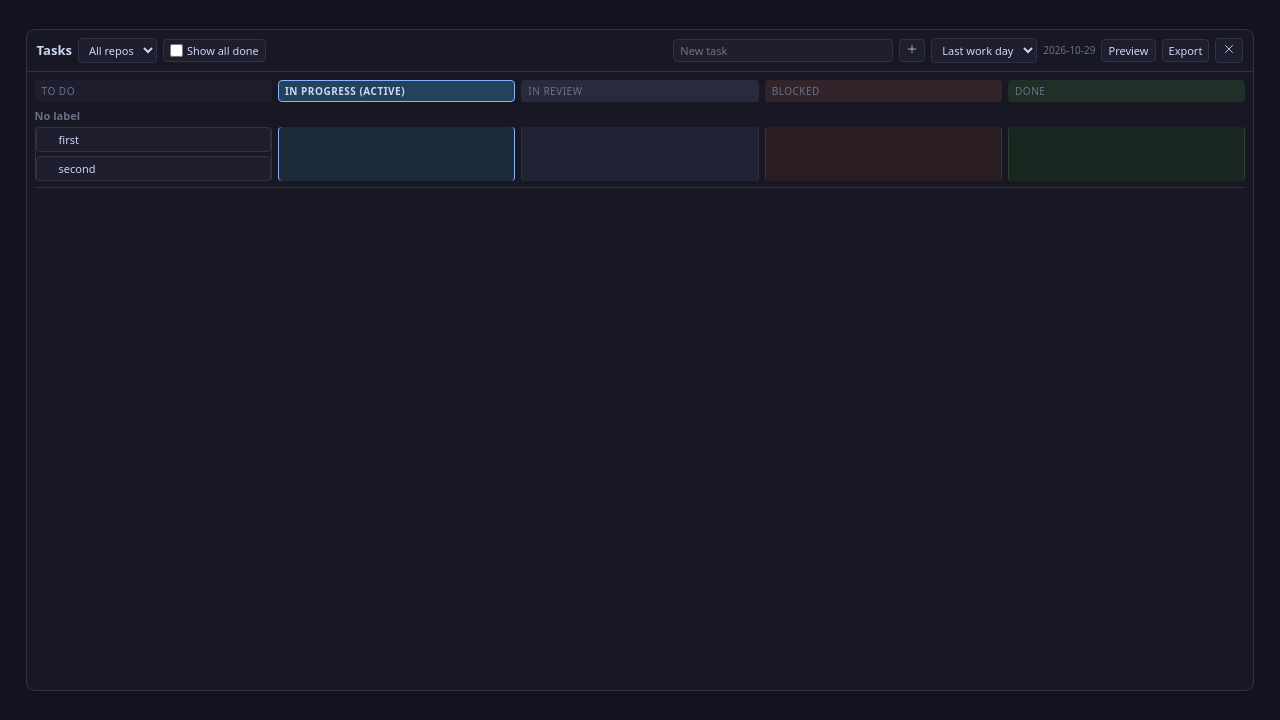
Test case: renaming a task › shows the newly selected task's title when switching cards
The width and height of the screenshot is (1280, 720).
Expected: the text "first" is shown, [59,132,79,147]
Click the button "first" at [153, 139], box [36,127,271,152]
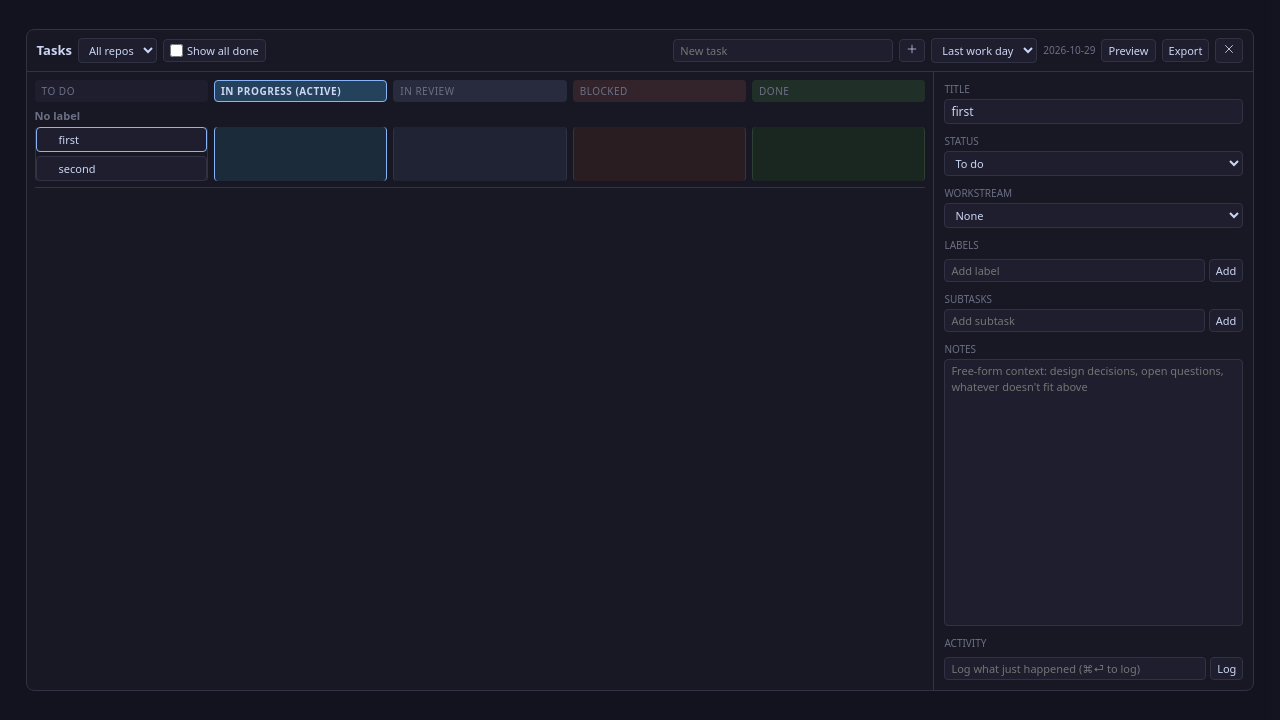
Expected: the field with test id "detail-title" holds "first", [944,99,1243,124]
Click the button "second" at [121, 168], box [36,156,207,181]
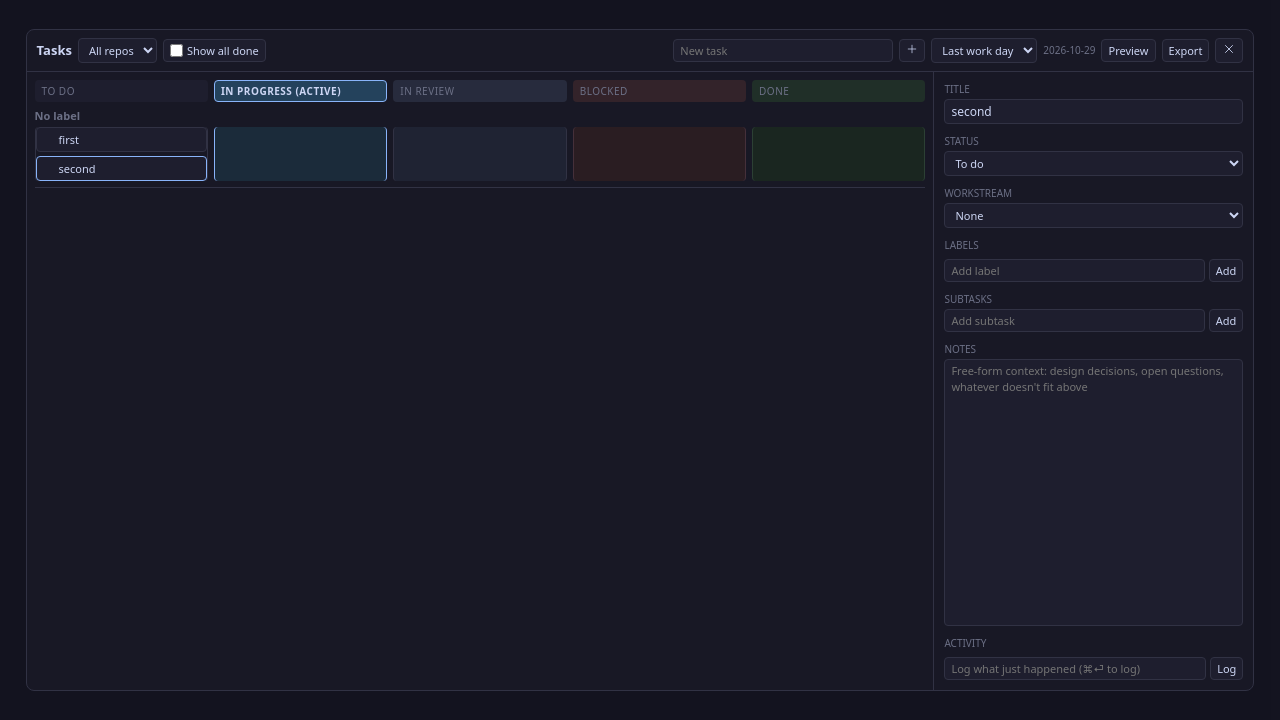
Expected: the field with test id "detail-title" holds "second", [944,99,1243,124]
